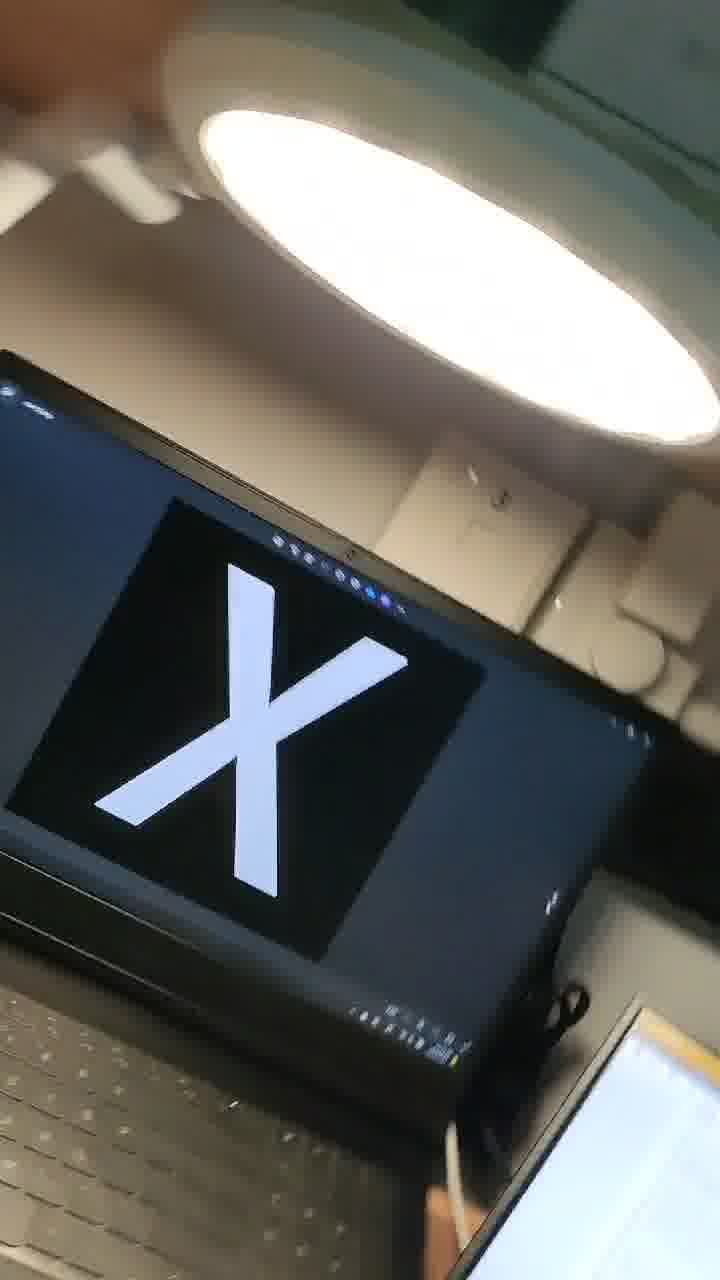X: (57, 525, 396, 963)
